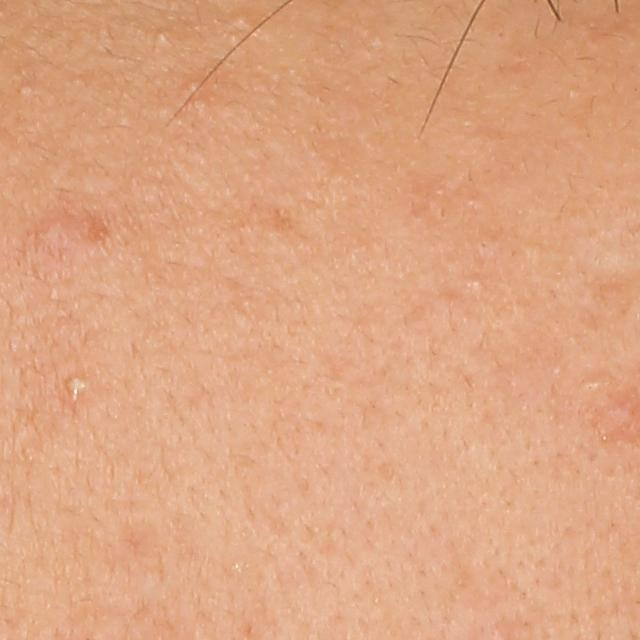comedo: (466, 275, 487, 297), (154, 30, 171, 47), (16, 82, 32, 94)
pustule: (61, 368, 89, 404)
